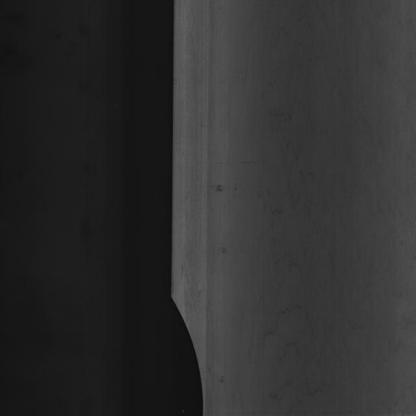crescent_gap: (153, 278, 216, 416)
